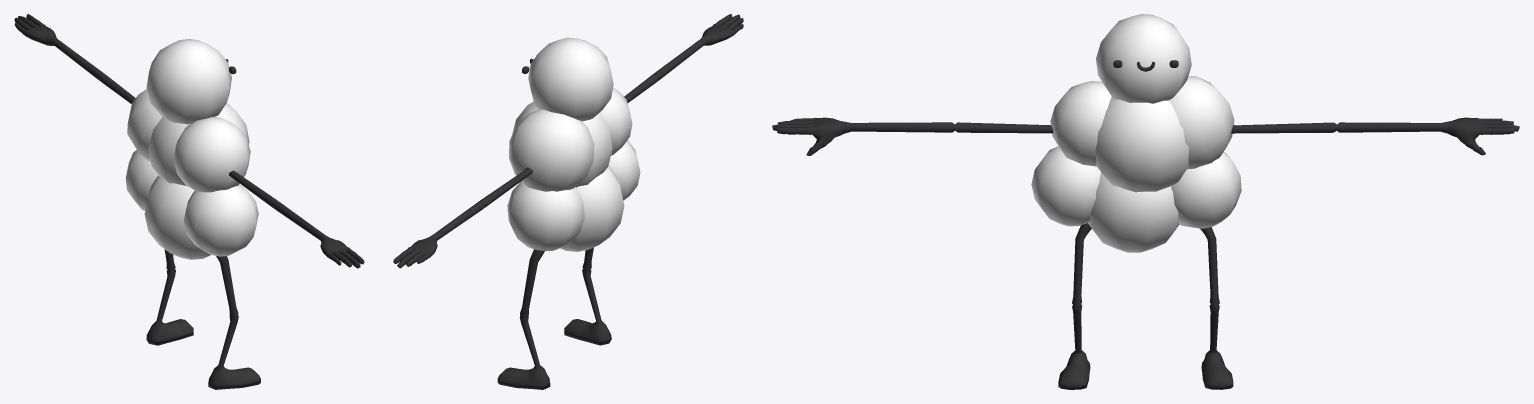
Rendered from scene_Dc41vcZFRc.glb.
3 views of the same model, side by side, from view 1: azimuth 30°, elevation 25°; view 2: azimuth 150°, elevation 25°; view 3: azimuth 270°, elevation 25° (orthographic). The views are drawn at different scales.
Visible parts, largest first — view 1: _100Avatars_194_CoolCloud; view 2: _100Avatars_194_CoolCloud; view 3: _100Avatars_194_CoolCloud.
Part boxes in pixels (x1=…): _100Avatars_194_CoolCloud: x1=14, y1=14, x2=364, y2=389; _100Avatars_194_CoolCloud: x1=393, y1=14, x2=743, y2=389; _100Avatars_194_CoolCloud: x1=772, y1=14, x2=1519, y2=389.
Size of the model in its own units: 1.36 by 4.48 by 8.62.
1 material, 1 textured.
